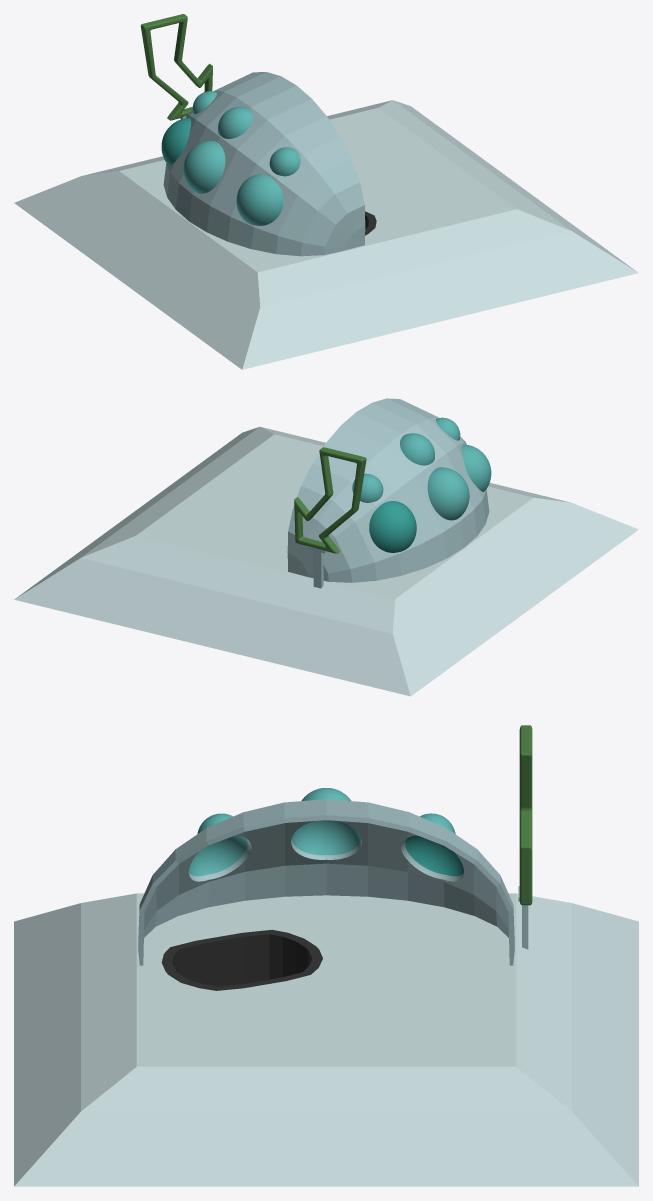
The model's file is GasStationStructure.fbx.
The picture shows the model from 3 angles, top to bottom: view 1: azimuth 30°, elevation 25°; view 2: azimuth 150°, elevation 25°; view 3: azimuth 270°, elevation 25°; orthographic projection. The views are drawn at different scales.
Visible parts, largest first — view 1: floor, GasHouse, arrowPanel; view 2: floor, GasHouse, arrowPanel, ArrowPanelHolder; view 3: floor, GasHouse, arrowPanel.
Boxes of the visible parts, bbox=[...] form: floor: bbox=[14, 100, 638, 369]; GasHouse: bbox=[161, 72, 365, 256]; arrowPanel: bbox=[140, 14, 212, 120]; floor: bbox=[14, 426, 638, 696]; GasHouse: bbox=[287, 398, 491, 582]; arrowPanel: bbox=[294, 447, 366, 553]; ArrowPanelHolder: bbox=[307, 546, 326, 588]; floor: bbox=[14, 893, 638, 1186]; GasHouse: bbox=[138, 788, 514, 965]; arrowPanel: bbox=[519, 725, 532, 905].
Bounding box in the file's own units: 45.72 × 45.53 × 20.51.
